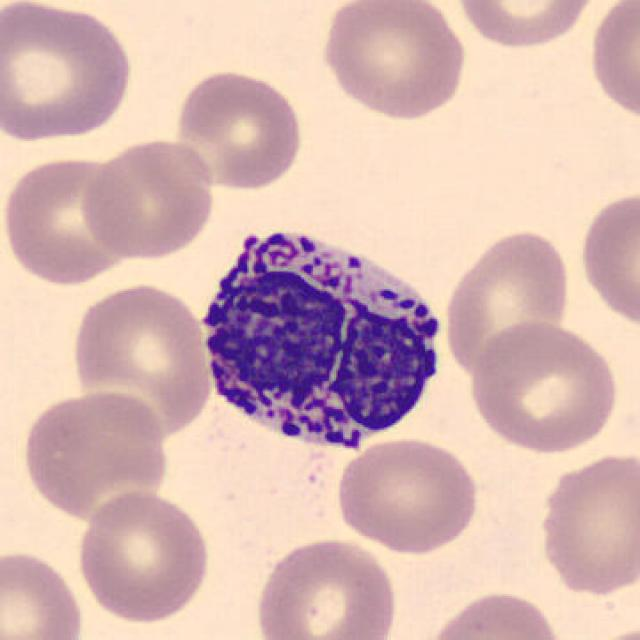Basophil: (190, 213, 459, 468)
RBC: (69, 278, 215, 442), (466, 317, 622, 455), (18, 386, 172, 524), (439, 224, 574, 379), (0, 0, 138, 146), (73, 487, 213, 626), (0, 151, 140, 289), (316, 0, 469, 123), (332, 434, 482, 555), (78, 136, 217, 261), (170, 67, 306, 192), (250, 532, 402, 640), (534, 448, 638, 599), (574, 185, 640, 333), (0, 545, 87, 640), (423, 585, 571, 640), (452, 0, 604, 51), (585, 0, 640, 127), (581, 620, 638, 640)
